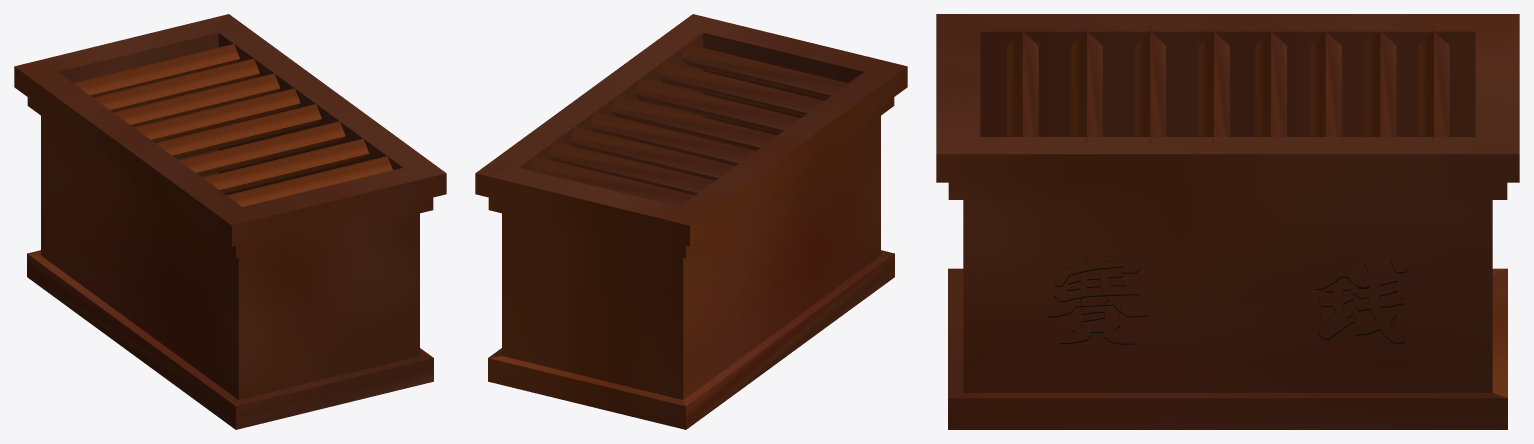
Rendered from saisen2.glb.
3 renders of one model, left to right at view 1: azimuth 30°, elevation 25°; view 2: azimuth 150°, elevation 25°; view 3: azimuth 270°, elevation 25°, orthographic. The views are drawn at different scales.
Visible parts, largest first — view 1: Cube; view 2: Cube; view 3: Cube.
Boxes of the visible parts, x1=… form: Cube: x1=14, y1=14, x2=446, y2=429; Cube: x1=475, y1=14, x2=907, y2=429; Cube: x1=936, y1=14, x2=1519, y2=429.
Bounding box in the file's own units: 2.38 × 2.22 × 4.18.
2 materials, 1 textured.
